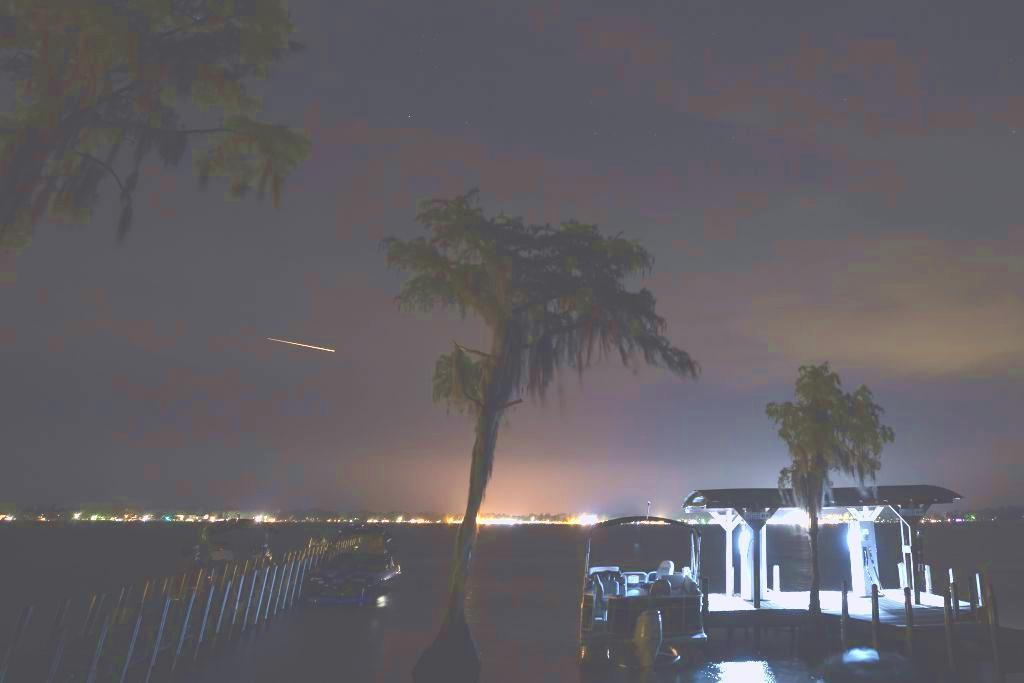meteorite: (244, 326, 354, 360)
